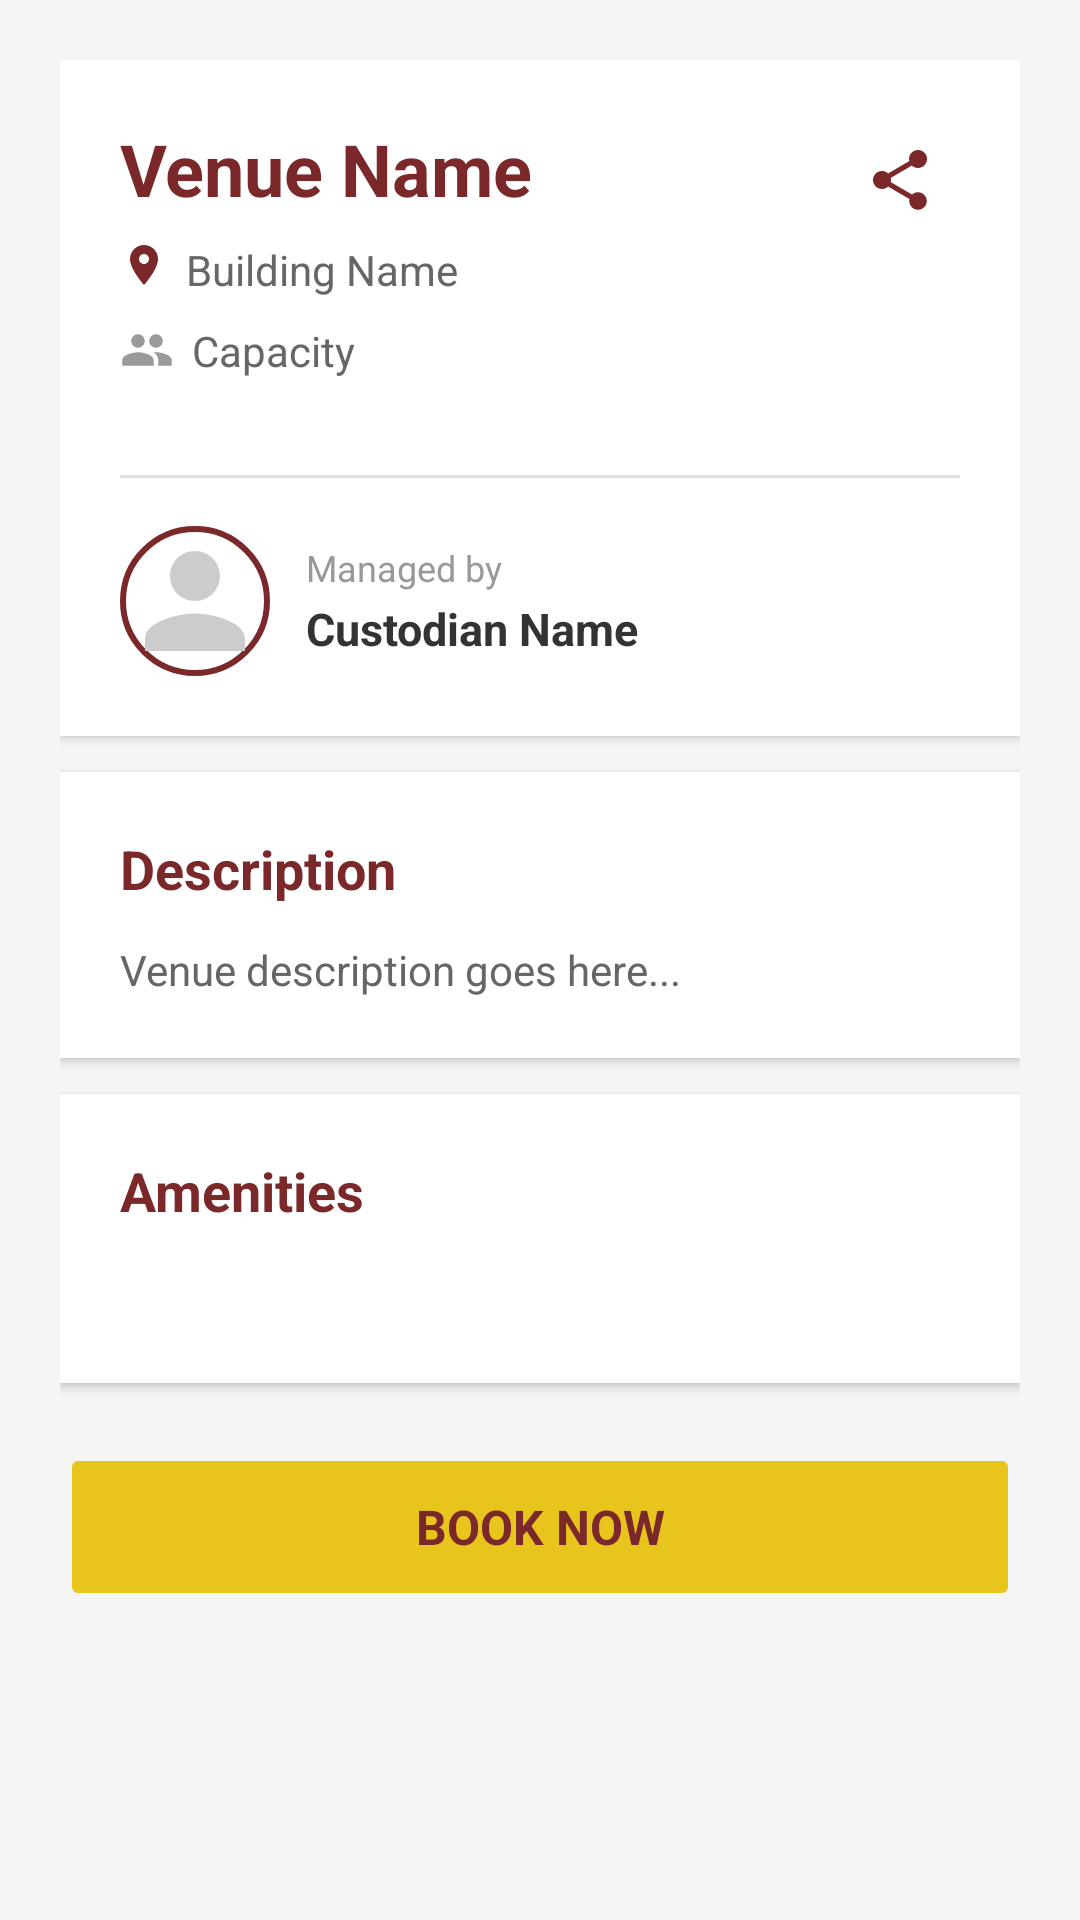

Screen size 1080x1920. Icon name, then its center in pixels as (x=x, y=y):
location: (x=144, y=265)
people: (x=147, y=350)
profile: (x=195, y=601)
Share: (x=900, y=180)
